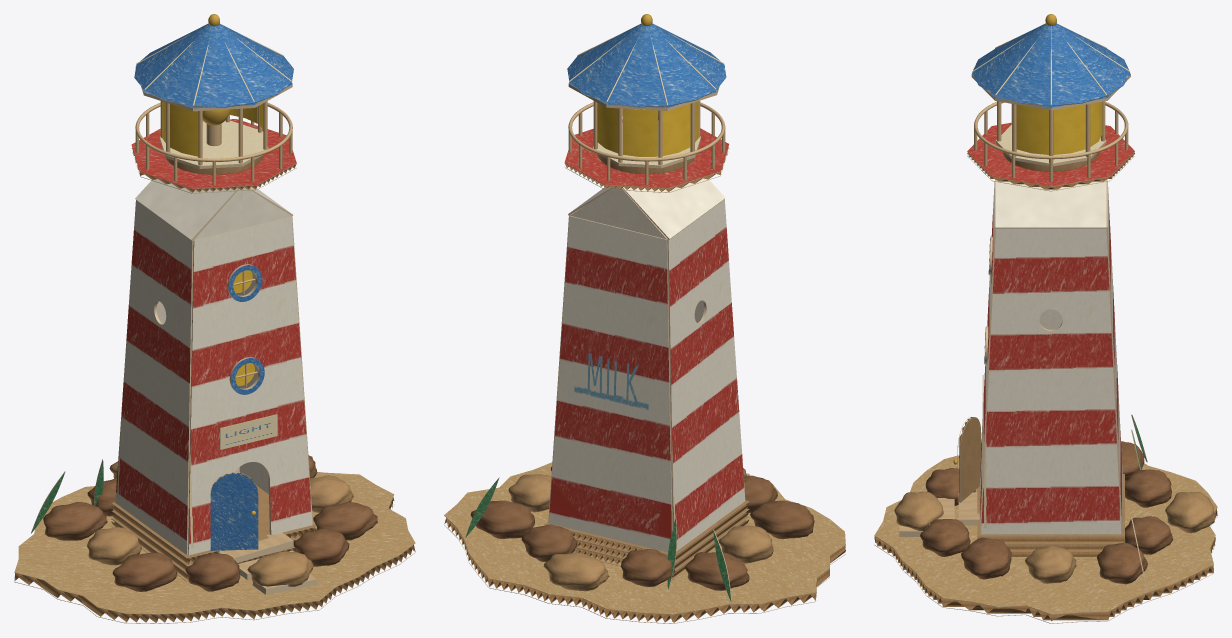
The model's file is 22_milk_carton_lighthouse.glb.
3 views of the same model, side by side, from view 1: azimuth 30°, elevation 25°; view 2: azimuth 150°, elevation 25°; view 3: azimuth 270°, elevation 25° (orthographic).
Visible parts, largest first — view 1: artwork_22_milk_carton_lighthouse, sand, blue, paint_brown, kraft, edge, paint_white, flute, wood, red, cream, tissue_yellow (+2 smaller); view 2: artwork_22_milk_carton_lighthouse, sand, paint_brown, blue, kraft, flute, edge, tissue_yellow, red, paint_white, wood, paper (+2 smaller); view 3: artwork_22_milk_carton_lighthouse, sand, paint_brown, blue, kraft, edge, flute, paint_white, wood, tissue_yellow, red, cream.
Part boxes in pixels (left/top/right/bottom): artwork_22_milk_carton_lighthouse: left=115, top=200, right=312, bottom=555; sand: left=14, top=471, right=415, bottom=614; blue: left=134, top=23, right=293, bottom=550; paint_brown: left=43, top=455, right=377, bottom=591; kraft: left=87, top=155, right=353, bottom=586; edge: left=14, top=27, right=415, bottom=623; paint_white: left=135, top=179, right=291, bottom=239; flute: left=14, top=148, right=415, bottom=622; wood: left=135, top=101, right=316, bottom=588; red: left=131, top=119, right=296, bottom=188; cream: left=136, top=33, right=291, bottom=165; tissue_yellow: left=162, top=101, right=263, bottom=385; artwork_22_milk_carton_lighthouse: left=549, top=199, right=745, bottom=552; sand: left=444, top=462, right=845, bottom=614; paint_brown: left=470, top=467, right=814, bottom=590; blue: left=567, top=23, right=726, bottom=107; kraft: left=508, top=154, right=773, bottom=591; flute: left=444, top=147, right=845, bottom=622; edge: left=444, top=26, right=845, bottom=623; tissue_yellow: left=597, top=101, right=698, bottom=156; red: left=564, top=119, right=728, bottom=187; paint_white: left=570, top=178, right=725, bottom=238; wood: left=568, top=100, right=748, bottom=475; paper: left=570, top=186, right=703, bottom=322; artwork_22_milk_carton_lighthouse: left=979, top=182, right=1122, bottom=534; sand: left=874, top=455, right=1217, bottom=614; paint_brown: left=920, top=441, right=1173, bottom=584; blue: left=972, top=23, right=1130, bottom=363; kraft: left=894, top=152, right=1216, bottom=583; edge: left=874, top=26, right=1217, bottom=623; flute: left=874, top=152, right=1217, bottom=621; paint_white: left=996, top=180, right=1106, bottom=227; wood: left=899, top=101, right=1128, bottom=531; tissue_yellow: left=1016, top=102, right=1102, bottom=154; red: left=967, top=122, right=1134, bottom=186; cream: left=972, top=26, right=1129, bottom=163.
Size of the model in its own units: 0.3889 by 0.5435 by 0.3231.
Materials: 17 (14 with a texture image).
